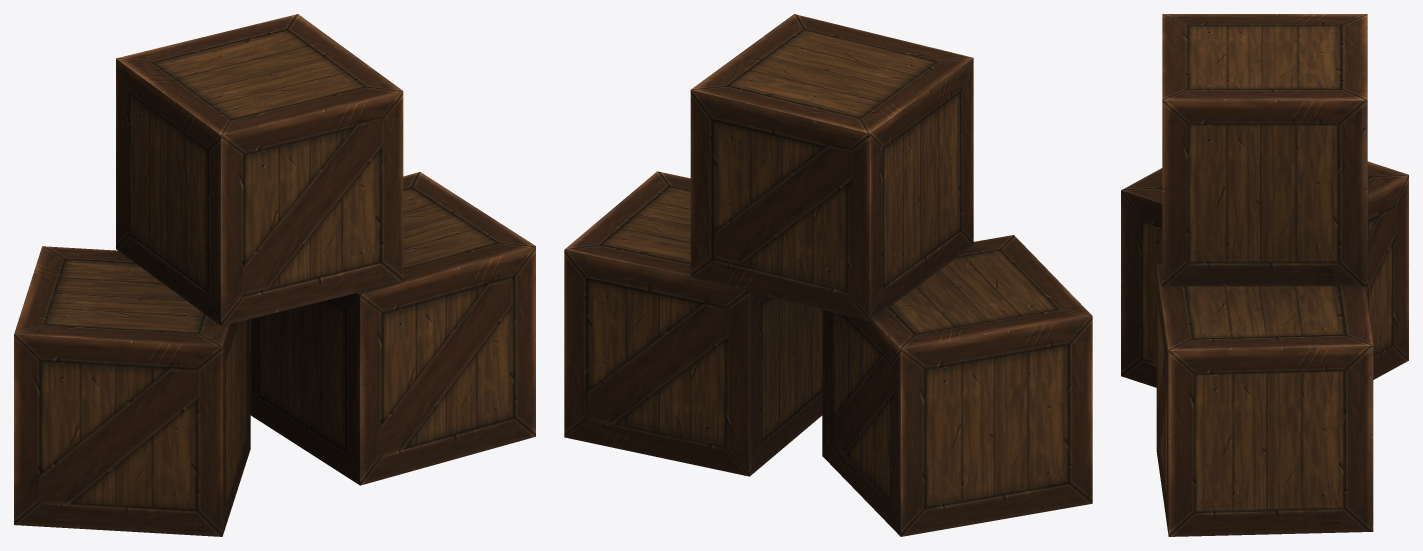
Rendered from modelBox3Box.fbx.
The picture shows the model from 3 angles, left to right: view 1: azimuth 30°, elevation 25°; view 2: azimuth 150°, elevation 25°; view 3: azimuth 270°, elevation 25°; orthographic projection. The views are drawn at different scales.
Parts seen in each view (by area): view 1: modelBox3Box; view 2: modelBox3Box; view 3: modelBox3Box.
Boxes of the visible parts, box(x1,y1,x2,y2) form: modelBox3Box: box(14, 14, 535, 536); modelBox3Box: box(564, 14, 1092, 536); modelBox3Box: box(1121, 14, 1408, 536).
Bounding box in the file's own units: 24.4 × 18.45 × 12.94.
